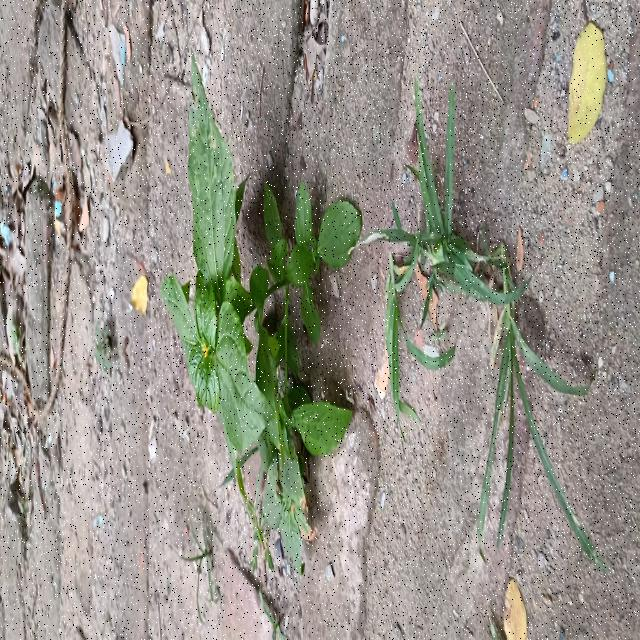plant: (160, 55, 362, 573)
